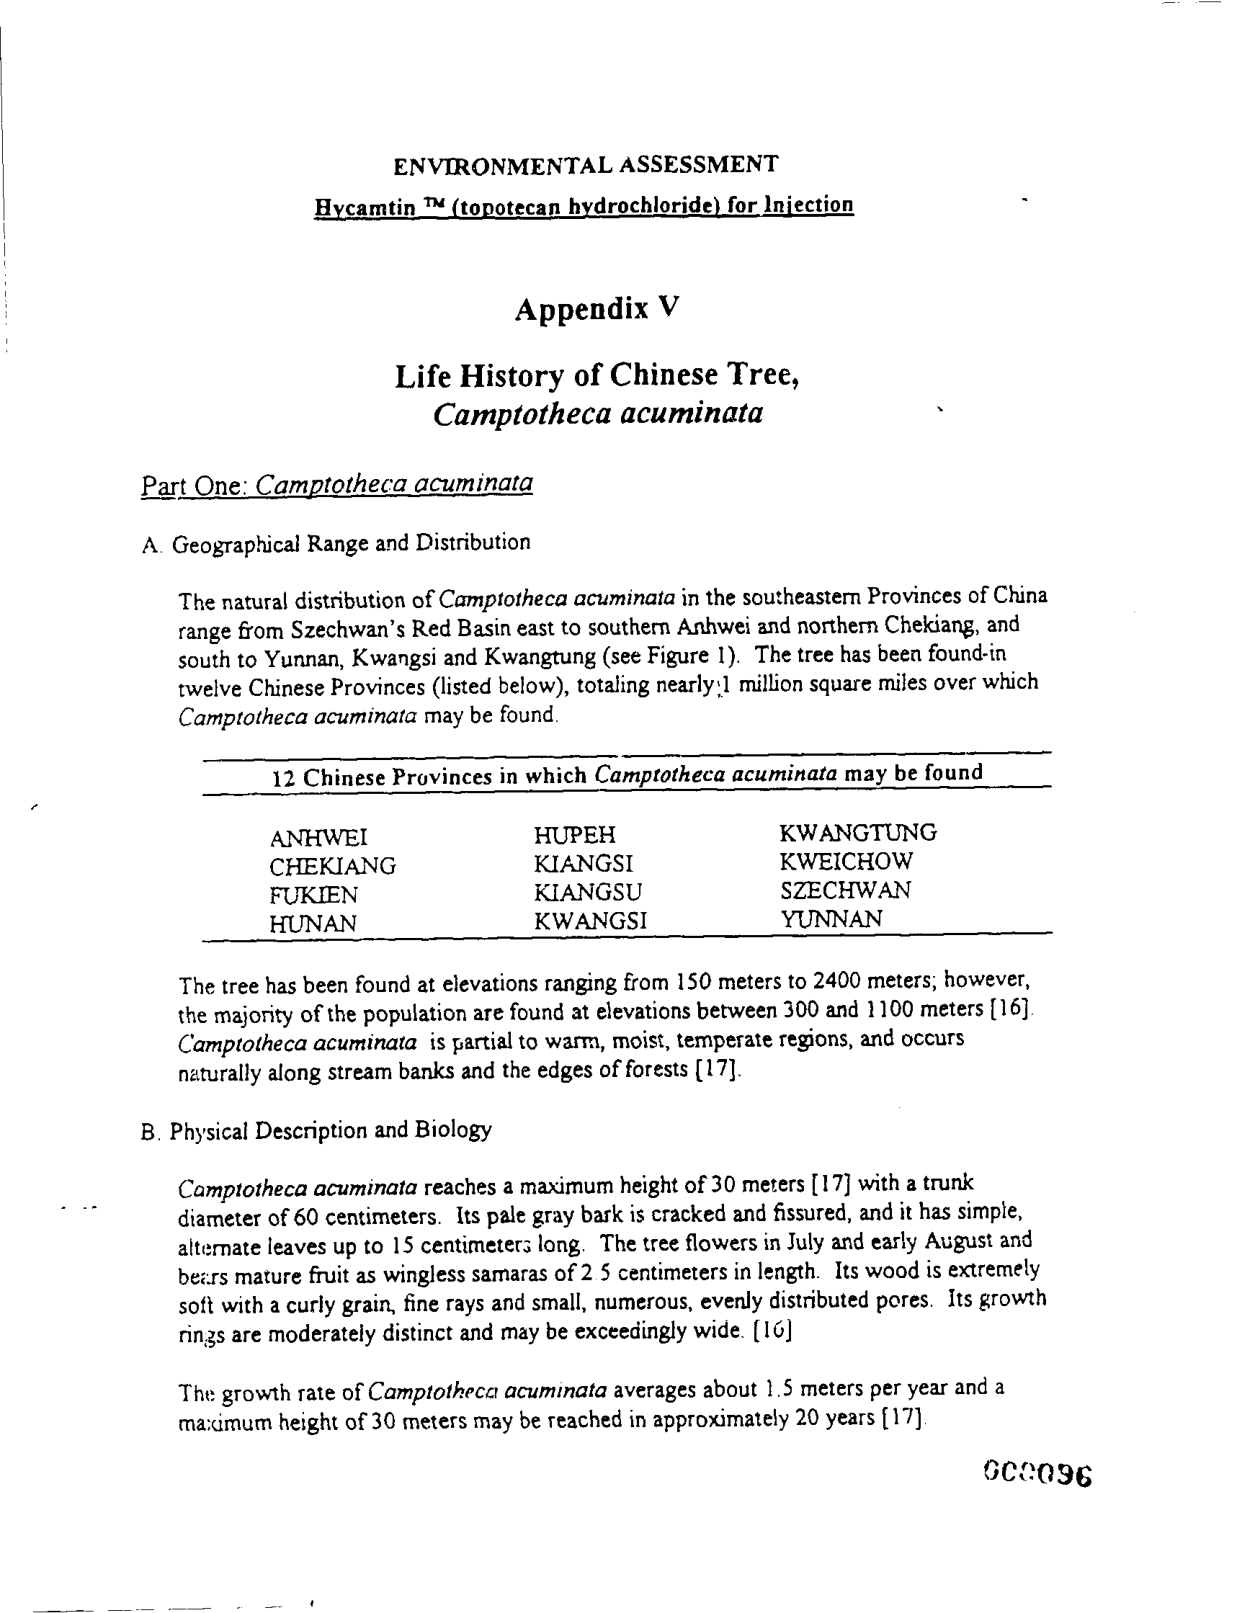partial_lined: (200, 749, 1053, 944)
